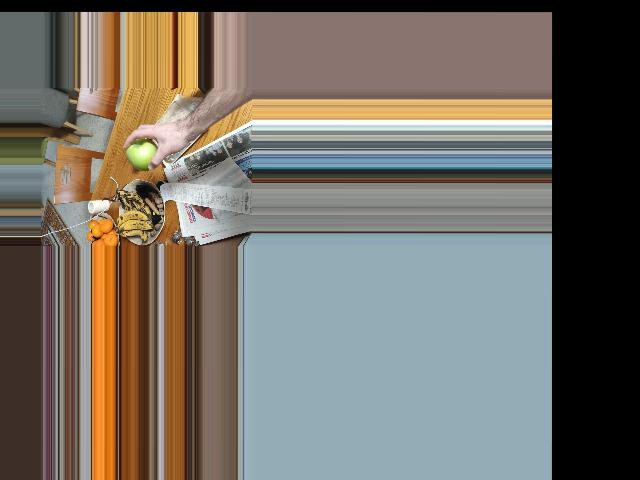apple: (127, 137, 159, 171)
